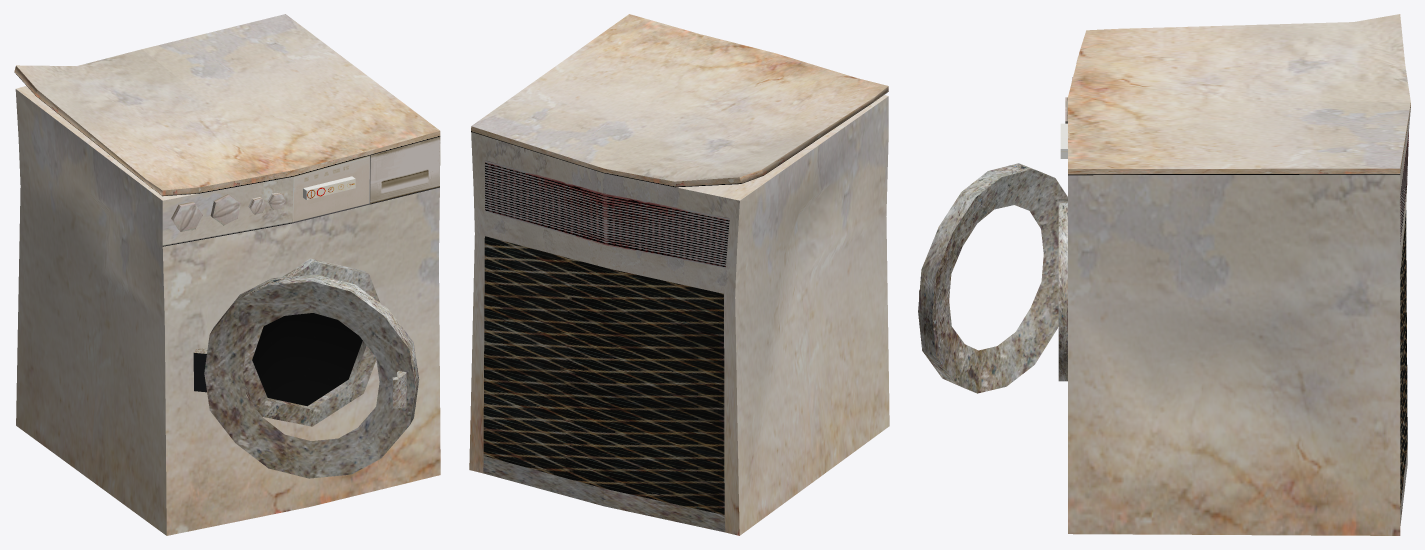
File: M_Home_Garden_laundromat1.fbx
3 renders of one model, left to right at view 1: azimuth 30°, elevation 25°; view 2: azimuth 150°, elevation 25°; view 3: azimuth 270°, elevation 25°, orthographic. The views are drawn at different scales.
Parts seen in each view (by area): view 1: M_Home_Garden_laundromat1; view 2: M_Home_Garden_laundromat1; view 3: M_Home_Garden_laundromat1.
Part boxes in pixels (bbox=[...]): M_Home_Garden_laundromat1: bbox=[14, 14, 440, 535]; M_Home_Garden_laundromat1: bbox=[469, 14, 889, 535]; M_Home_Garden_laundromat1: bbox=[918, 14, 1410, 535].
Bounding box in the file's own units: 91.75 × 115 × 135.
